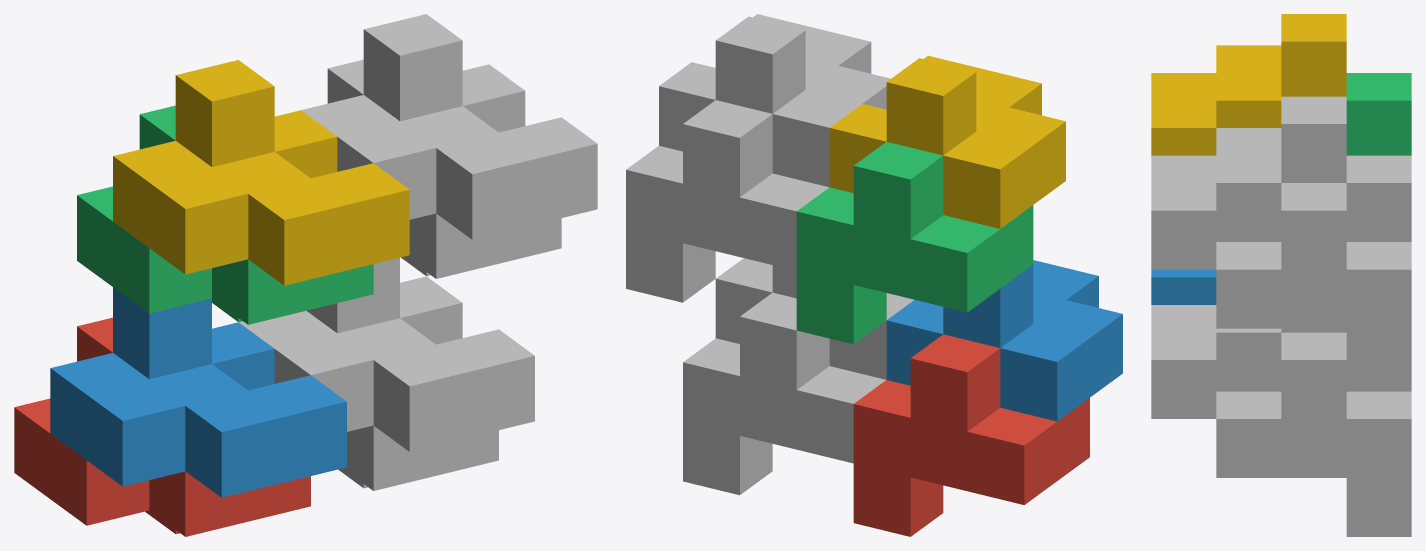
File: tiling.obj
3 views of the same model, side by side, from view 1: azimuth 30°, elevation 25°; view 2: azimuth 150°, elevation 25°; view 3: azimuth 270°, elevation 25° (orthographic). The views are drawn at different scales.
Parts seen in each view (by area): view 1: copy_1_domain_4, copy_1_domain_2, copy_1_domain_8, copy_1_domain_6, copy_1_domain_1, copy_1_domain_3, copy_1_domain_7, copy_1_domain_5; view 2: copy_1_domain_3, copy_1_domain_1, copy_1_domain_7, copy_1_domain_4, copy_1_domain_5, copy_1_domain_2, copy_1_domain_8, copy_1_domain_6; view 3: copy_1_domain_8, copy_1_domain_6, copy_1_domain_7, copy_1_domain_4, copy_1_domain_5, copy_1_domain_3, copy_1_domain_2.
Part boxes in pixels (box(x1,y1,x2,y2)): copy_1_domain_4: box(113, 60, 409, 285); copy_1_domain_2: box(50, 287, 346, 497); copy_1_domain_8: box(301, 14, 597, 239); copy_1_domain_6: box(238, 257, 534, 451); copy_1_domain_1: box(14, 317, 310, 536); copy_1_domain_3: box(77, 105, 373, 324); copy_1_domain_7: box(327, 59, 561, 278); copy_1_domain_5: box(338, 425, 498, 490); copy_1_domain_3: box(796, 141, 1033, 344); copy_1_domain_1: box(853, 334, 1089, 536); copy_1_domain_7: box(626, 100, 828, 302); copy_1_domain_4: box(829, 55, 1065, 228); copy_1_domain_5: box(683, 292, 885, 495); copy_1_domain_2: box(886, 260, 1122, 421); copy_1_domain_8: box(659, 14, 890, 187); copy_1_domain_6: box(715, 258, 914, 379); copy_1_domain_8: box(1151, 96, 1346, 328); copy_1_domain_6: box(1151, 305, 1346, 477); copy_1_domain_7: box(1216, 155, 1411, 387); copy_1_domain_4: box(1151, 14, 1346, 155); copy_1_domain_5: box(1216, 387, 1411, 536); copy_1_domain_3: box(1346, 73, 1411, 155); copy_1_domain_2: box(1151, 269, 1216, 304).
Size of the model in its own units: 7 by 7 by 4.
